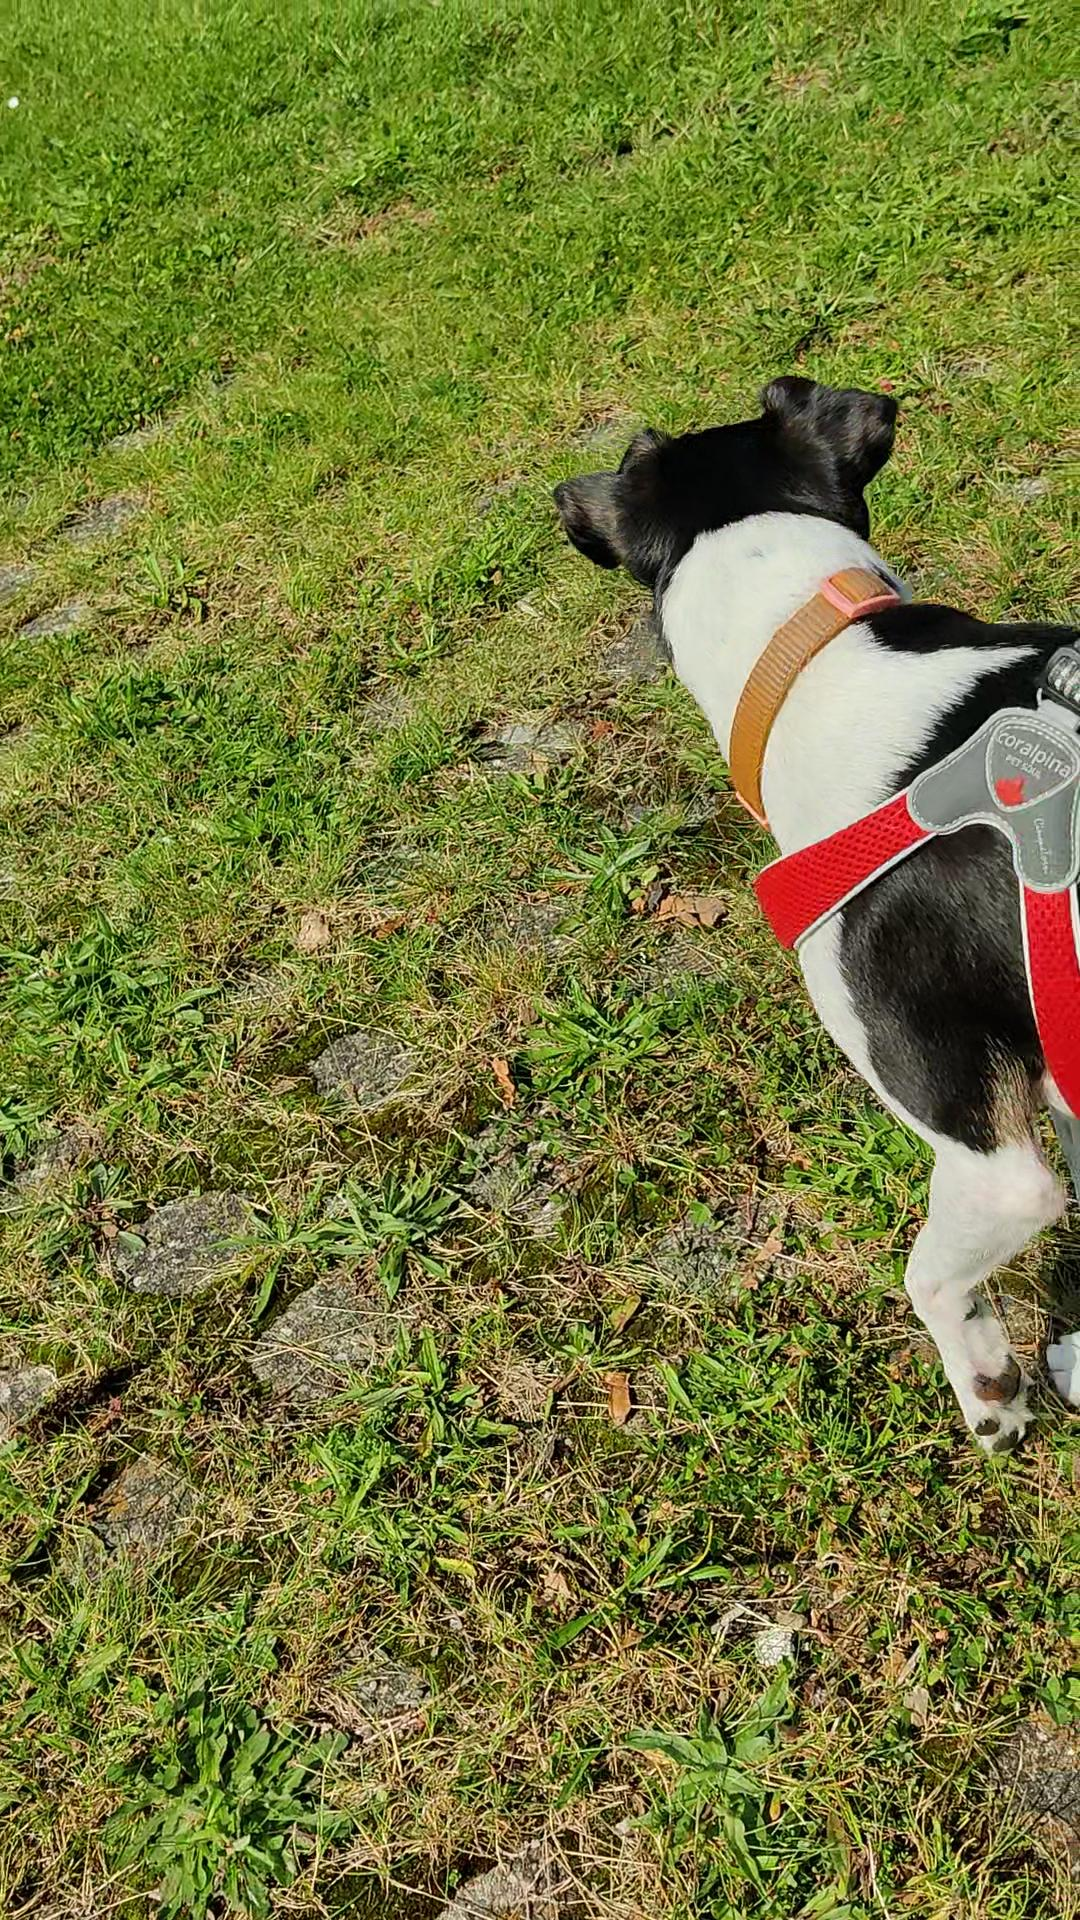Dog: (489, 342, 1079, 1470)
